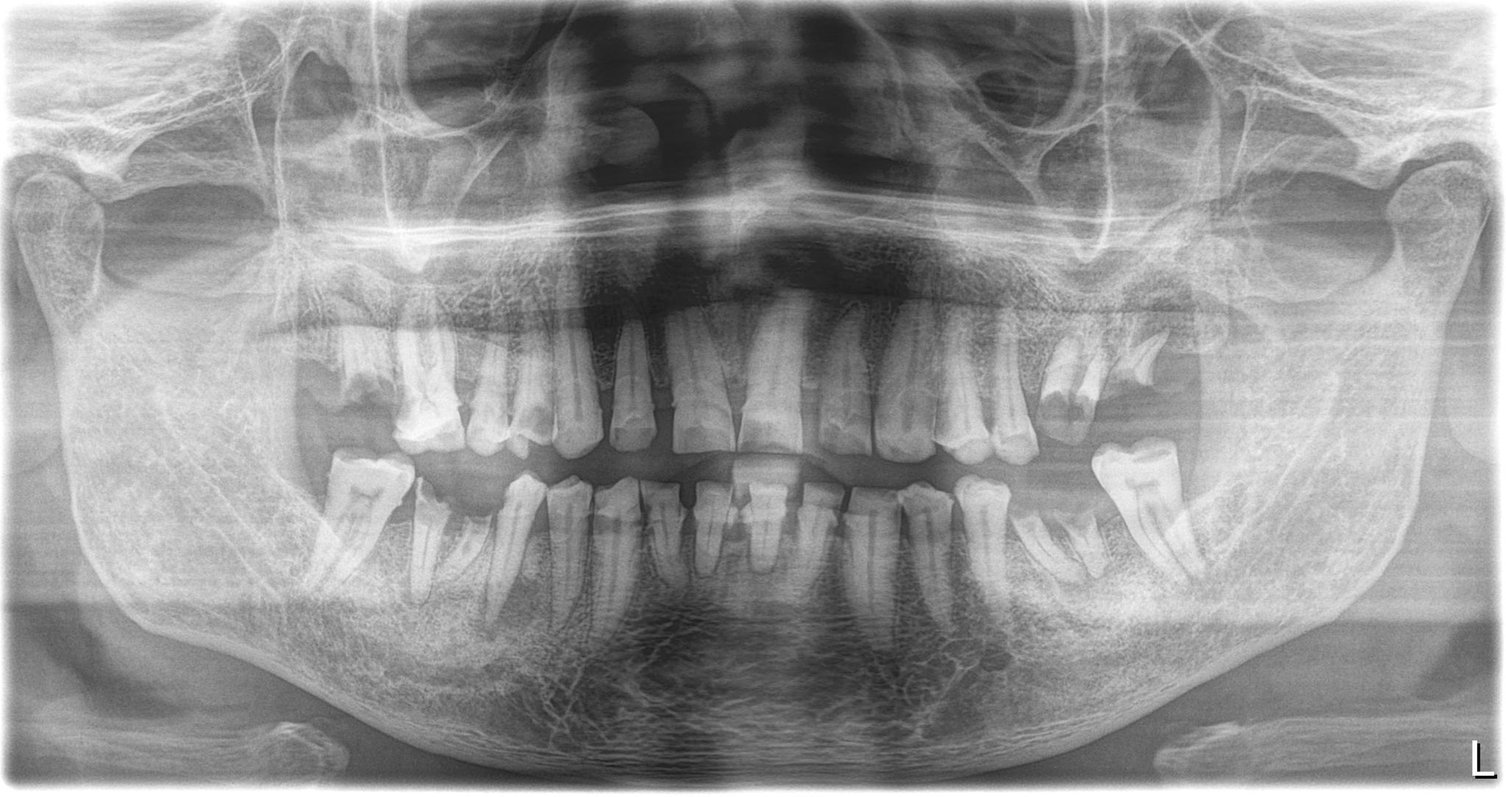Dental Caries: (1026, 387, 1096, 451), (518, 411, 557, 442)
Retained Root: (1107, 323, 1189, 413), (320, 316, 389, 419), (401, 477, 448, 618), (1068, 483, 1120, 596), (1011, 488, 1055, 614)
